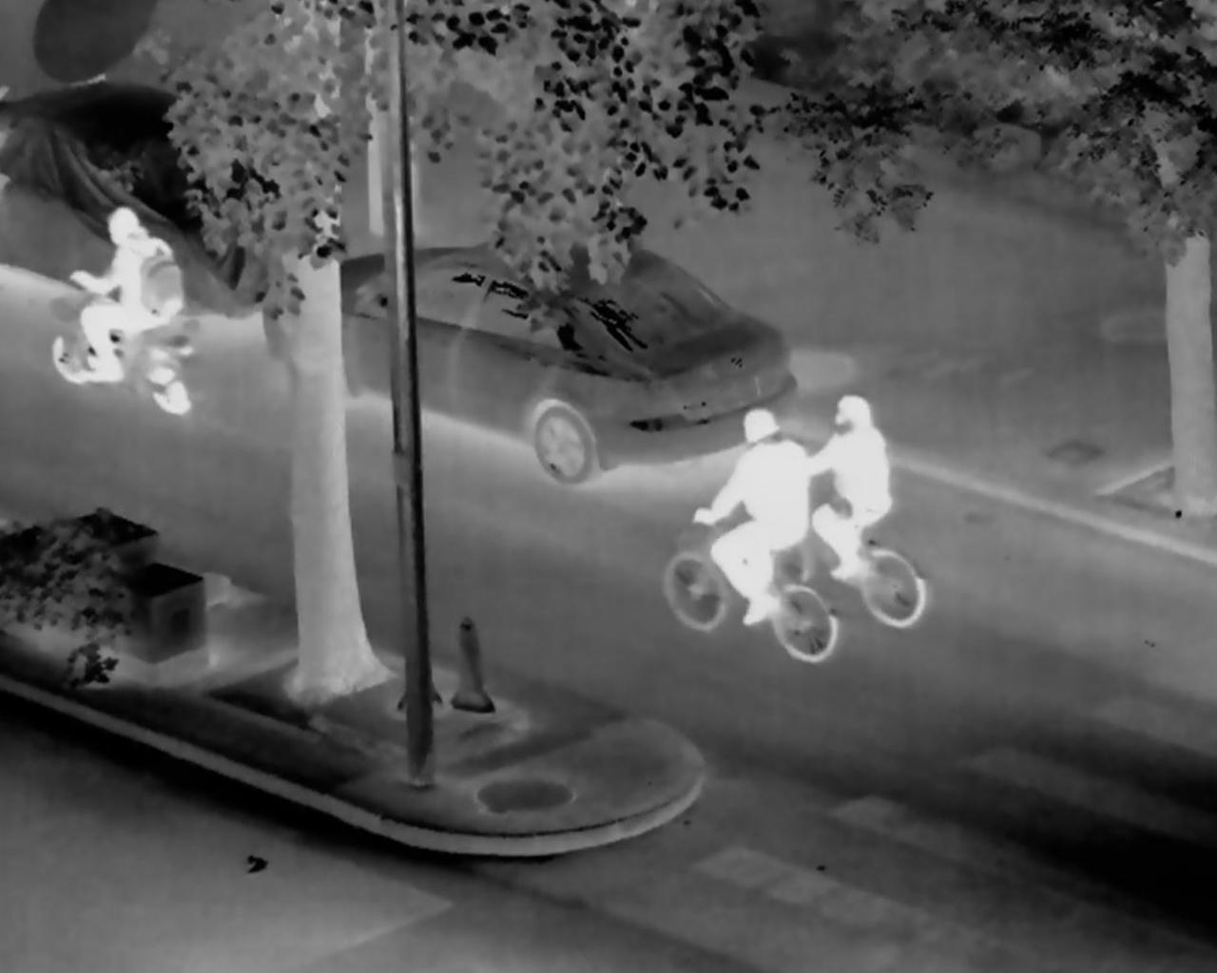person: (693, 407, 809, 625), (66, 203, 182, 381), (800, 391, 892, 582)
